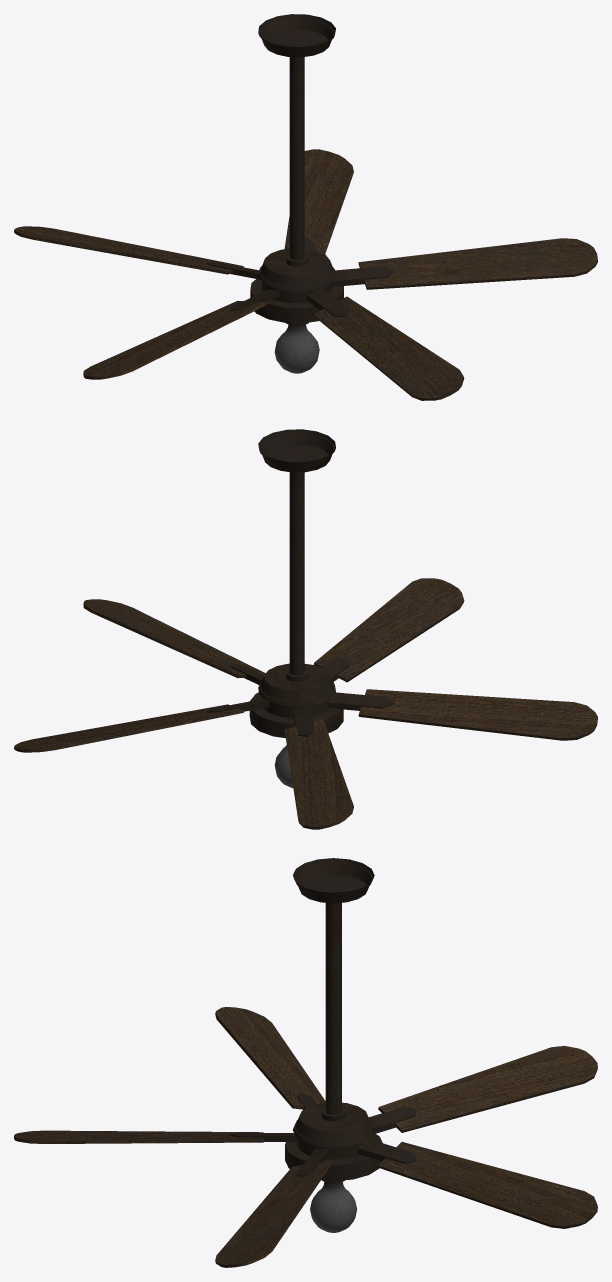
Rendered from ceiling_fan_mp_2_1_light_off.glb.
3 renders of one model, top to bottom at view 1: azimuth 30°, elevation 25°; view 2: azimuth 150°, elevation 25°; view 3: azimuth 270°, elevation 25°, orthographic. The views are drawn at different scales.
Parts seen in each view (by area): view 1: ceiling_fan_mp_2_1_light_off_blades, ceiling_fan_mp_2_1_light_off; view 2: ceiling_fan_mp_2_1_light_off_blades, ceiling_fan_mp_2_1_light_off; view 3: ceiling_fan_mp_2_1_light_off_blades, ceiling_fan_mp_2_1_light_off.
Part boxes in pixels (<box>): ceiling_fan_mp_2_1_light_off_blades: <box>14,149,597,400</box>; ceiling_fan_mp_2_1_light_off: <box>250,14,343,373</box>; ceiling_fan_mp_2_1_light_off_blades: <box>14,578,597,829</box>; ceiling_fan_mp_2_1_light_off: <box>249,429,343,788</box>; ceiling_fan_mp_2_1_light_off_blades: <box>14,1007,597,1267</box>; ceiling_fan_mp_2_1_light_off: <box>285,858,382,1232</box>.
Bounding box in the file's own units: 1.11 × 0.7128 × 1.06.
3 materials, 3 textured.
